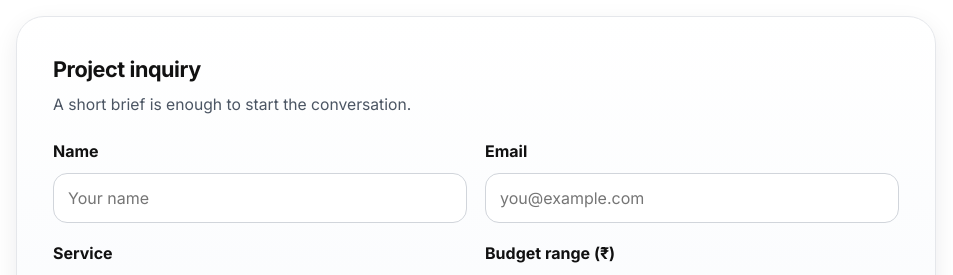
Test: ContactPage › sanitizes name input to letters and allowed punctuation only
Type "Jane123 Doe@" into the field labelled "Name" at (260, 198), box top-left (53, 173), bottom-right (467, 223)
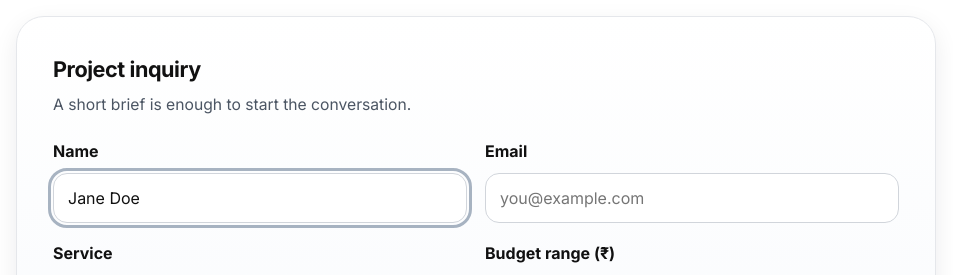
Now the field labelled "Name" holds "Jane Doe", box top-left (53, 173), bottom-right (467, 223)
